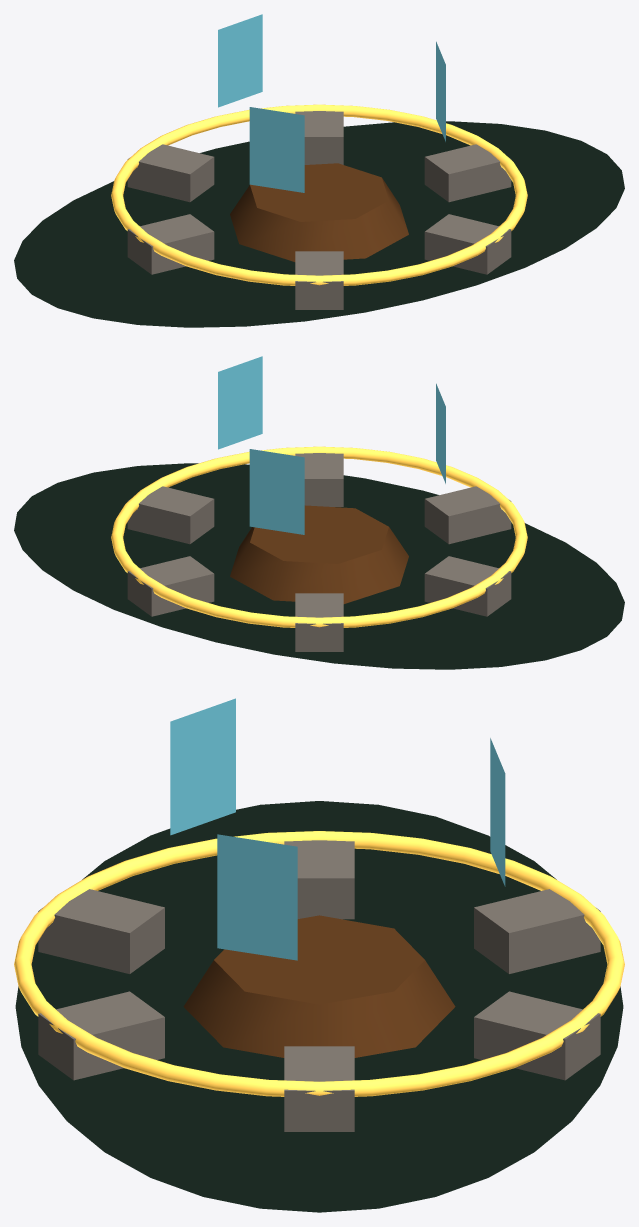
File: diplomacy_council.glb
3 renders of one model, top to bottom at view 1: azimuth 30°, elevation 25°; view 2: azimuth 150°, elevation 25°; view 3: azimuth 270°, elevation 25°, orthographic. The views are drawn at different scales.
Parts seen in each view (by area): view 1: soft_ground_shadow, council_center, council_signal_ring, council_banner_1, council_seat_0, council_seat_4, council_banner_2, council_seat_1, council_seat_3, council_seat_2, council_seat_5, council_banner_0; view 2: soft_ground_shadow, council_center, council_signal_ring, council_banner_2, council_seat_0, council_seat_2, council_banner_0, council_seat_3, council_seat_5, council_seat_4, council_seat_1, council_banner_1; view 3: soft_ground_shadow, council_center, council_signal_ring, council_banner_0, council_seat_2, council_seat_4, council_banner_1, council_seat_1, council_seat_5, council_seat_0, council_seat_3, council_banner_2.
Boxes of the visible parts, x1,y1,x2,y2 form: soft_ground_shadow: [14, 121, 624, 327]; council_center: [230, 163, 408, 261]; council_signal_ring: [111, 104, 527, 285]; council_banner_1: [249, 107, 304, 192]; council_seat_0: [424, 144, 511, 202]; council_seat_4: [127, 144, 214, 202]; council_banner_2: [218, 14, 262, 107]; council_seat_1: [424, 214, 511, 274]; council_seat_3: [127, 214, 214, 274]; council_seat_2: [295, 251, 343, 309]; council_seat_5: [295, 111, 343, 164]; council_banner_0: [436, 41, 445, 141]; soft_ground_shadow: [14, 463, 624, 669]; council_center: [230, 505, 408, 603]; council_signal_ring: [111, 446, 527, 627]; council_banner_2: [249, 449, 304, 534]; council_seat_0: [127, 486, 214, 544]; council_seat_2: [424, 486, 511, 544]; council_banner_0: [218, 356, 262, 449]; council_seat_3: [424, 556, 511, 616]; council_seat_5: [127, 556, 214, 616]; council_seat_4: [295, 593, 343, 651]; council_seat_1: [295, 453, 343, 506]; council_banner_1: [436, 383, 445, 483]; soft_ground_shadow: [15, 801, 623, 1212]; council_center: [183, 915, 455, 1057]; council_signal_ring: [14, 831, 624, 1096]; council_banner_0: [217, 834, 297, 960]; council_seat_2: [38, 889, 164, 973]; council_seat_4: [474, 889, 600, 973]; council_banner_1: [170, 698, 235, 835]; council_seat_1: [38, 991, 164, 1080]; council_seat_5: [474, 991, 600, 1080]; council_seat_0: [284, 1046, 354, 1131]; council_seat_3: [284, 840, 354, 919]; council_banner_2: [490, 738, 505, 886].
Bounding box in the file's own units: 3.87 × 1.06 × 2.43.
